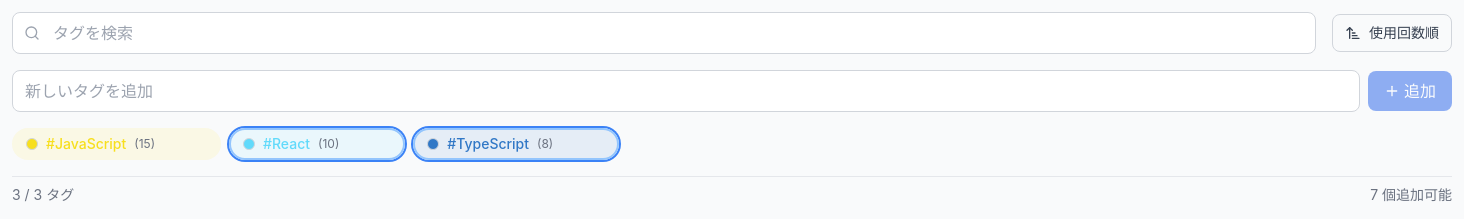
Test: TagManager › 検索・フィルタリング機能 › 検索クリアボタンが動作する
Type "React" into the field with placeholder "タグを検索" at (664, 33), box [12,12,1316,54]
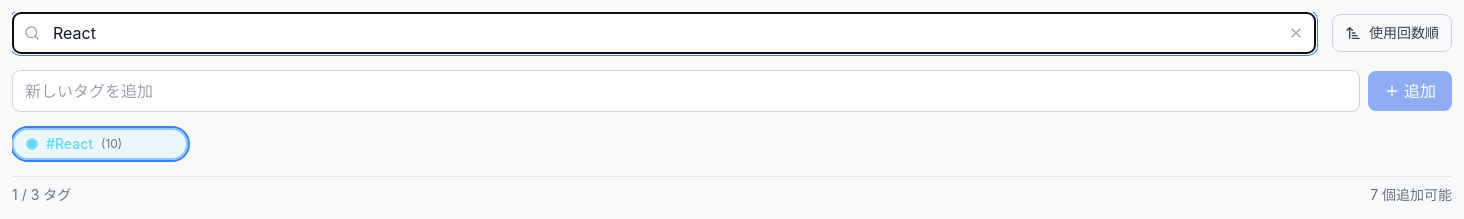
Click the button named "クリア" at (1296, 33), box [1288,25,1304,41]
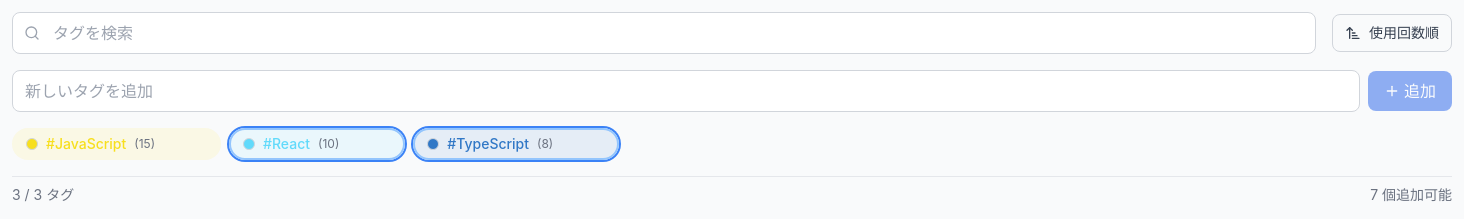
Expected: the text "#React" is shown, [263,134,310,154]
Expected: the field with placeholder "タグを検索" is empty, [12,12,1316,54]
Expected: the text "#JavaScript" is shown, [46,134,126,154]
